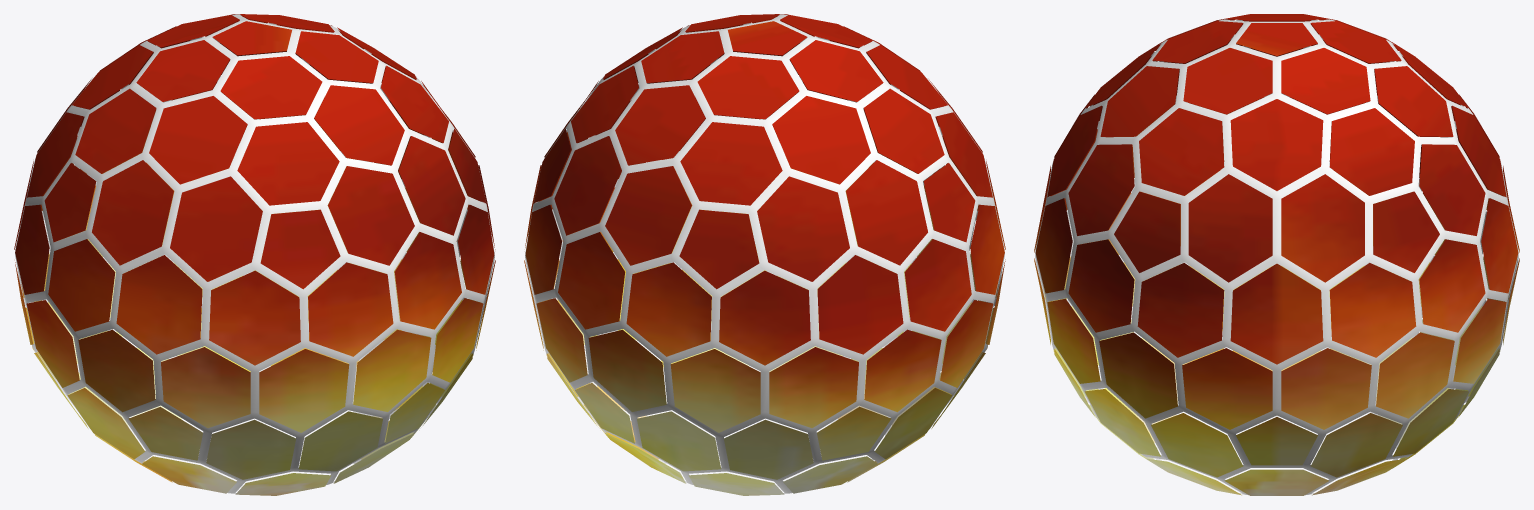
Rendered from GameObject.fbx.
The picture shows the model from 3 angles, left to right: view 1: azimuth 30°, elevation 25°; view 2: azimuth 150°, elevation 25°; view 3: azimuth 270°, elevation 25°; orthographic projection.
Parts seen in each view (by area): view 1: eff_hudun_6b002 (2), eff_hudun_6b002 (1); view 2: eff_hudun_6b002 (2), eff_hudun_6b002 (1); view 3: eff_hudun_6b002 (2), eff_hudun_6b002 (1).
Boxes of the visible parts, <box> form: eff_hudun_6b002 (2): <box>14,14,495,495</box>; eff_hudun_6b002 (1): <box>15,14,494,493</box>; eff_hudun_6b002 (2): <box>524,14,1005,495</box>; eff_hudun_6b002 (1): <box>525,14,1004,493</box>; eff_hudun_6b002 (2): <box>1034,14,1519,495</box>; eff_hudun_6b002 (1): <box>1035,19,1518,495</box>.
Bounding box in the file's own units: 3.99 × 3.8 × 3.98.
Materials: 2 (2 with a texture image).
